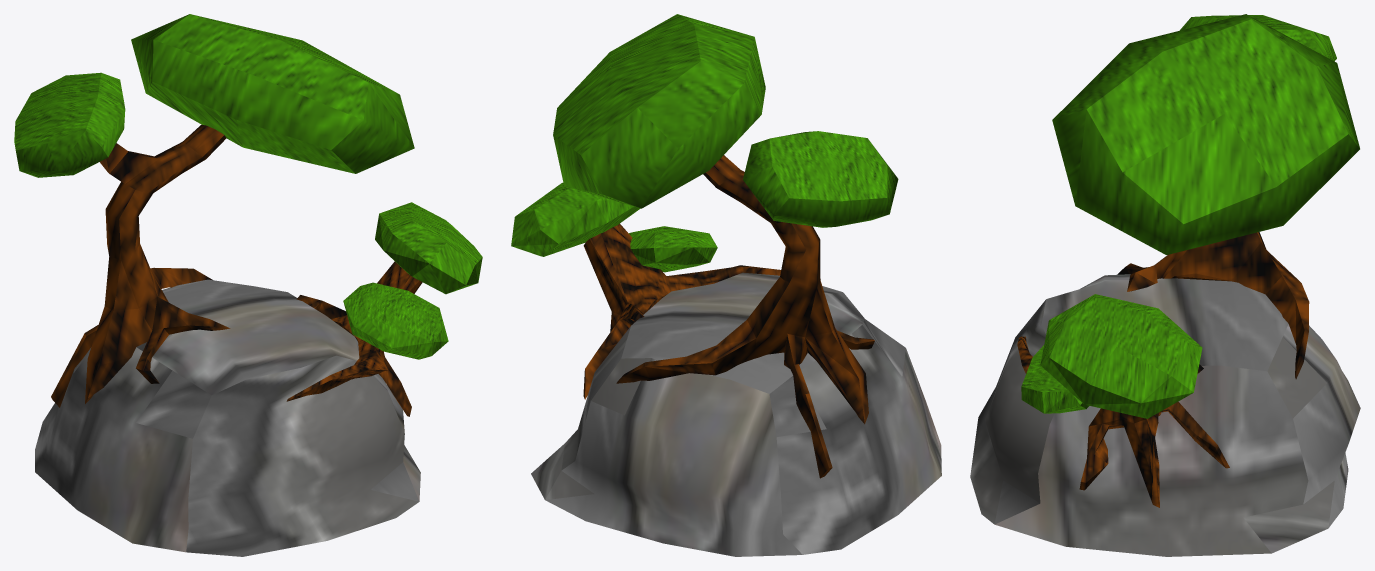
The model's file is StoneTree.FBX.
3 views of the same model, side by side, from view 1: azimuth 30°, elevation 25°; view 2: azimuth 150°, elevation 25°; view 3: azimuth 270°, elevation 25° (orthographic). The views are drawn at different scales.
Visible parts, largest first — view 1: Box001; view 2: Box001; view 3: Box001.
Part boxes in pixels (box(x1,y1,x2,y2)): Box001: box(14, 14, 482, 556); Box001: box(511, 14, 941, 556); Box001: box(970, 14, 1360, 556).
Bounding box in the file's own units: 281 × 297 × 220.
Materials: 1 (1 with a texture image).
